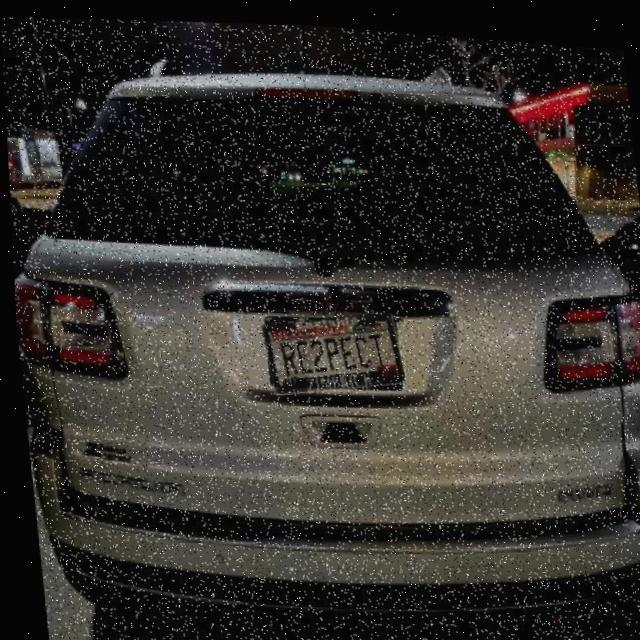LicensePlate: (259, 306, 403, 391)
